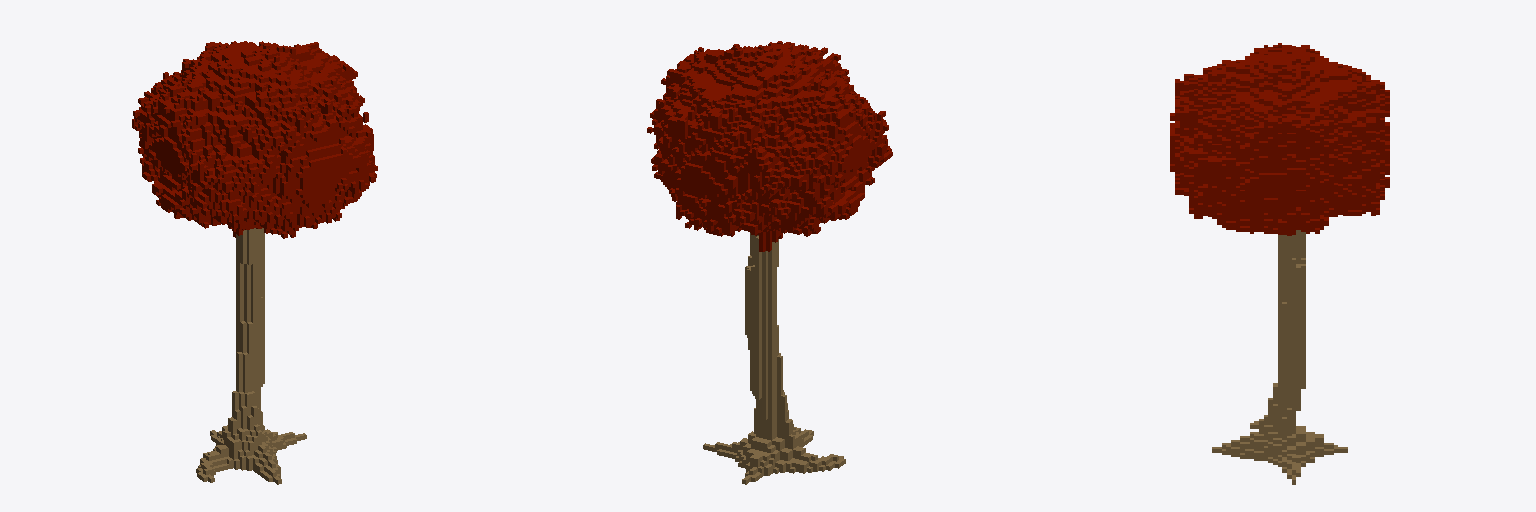
3 views of the same model, side by side, from view 1: azimuth 30°, elevation 25°; view 2: azimuth 150°, elevation 25°; view 3: azimuth 270°, elevation 25° (orthographic).
Visible parts, largest first — view 1: Tree_0; view 2: Tree_0; view 3: Tree_0.
Boxes of the visible parts, x1,y1,x2,y2 form: Tree_0: [132, 41, 377, 484]; Tree_0: [647, 41, 892, 484]; Tree_0: [1170, 43, 1389, 484].
Bounding box in the file's own units: 44 × 95 × 47.
1 materials, 1 textured.